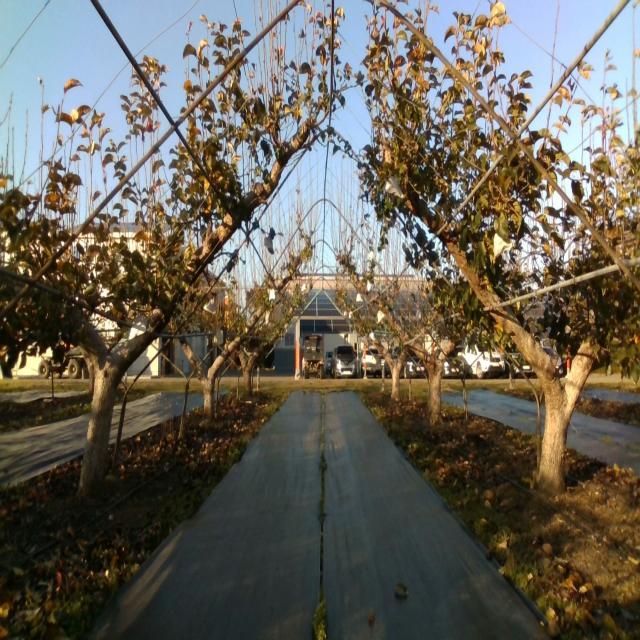pearbags: (493, 232, 512, 261), (128, 314, 147, 340), (385, 176, 404, 198), (204, 295, 216, 314)
